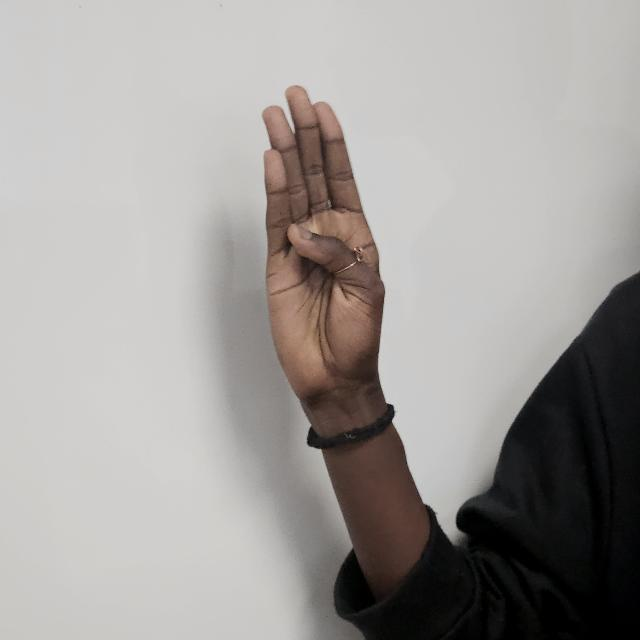Baixo: (248, 82, 384, 418)
